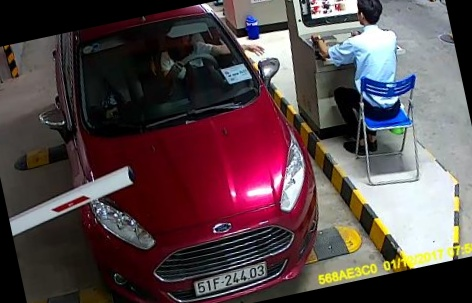plate: (187, 260, 275, 297)
